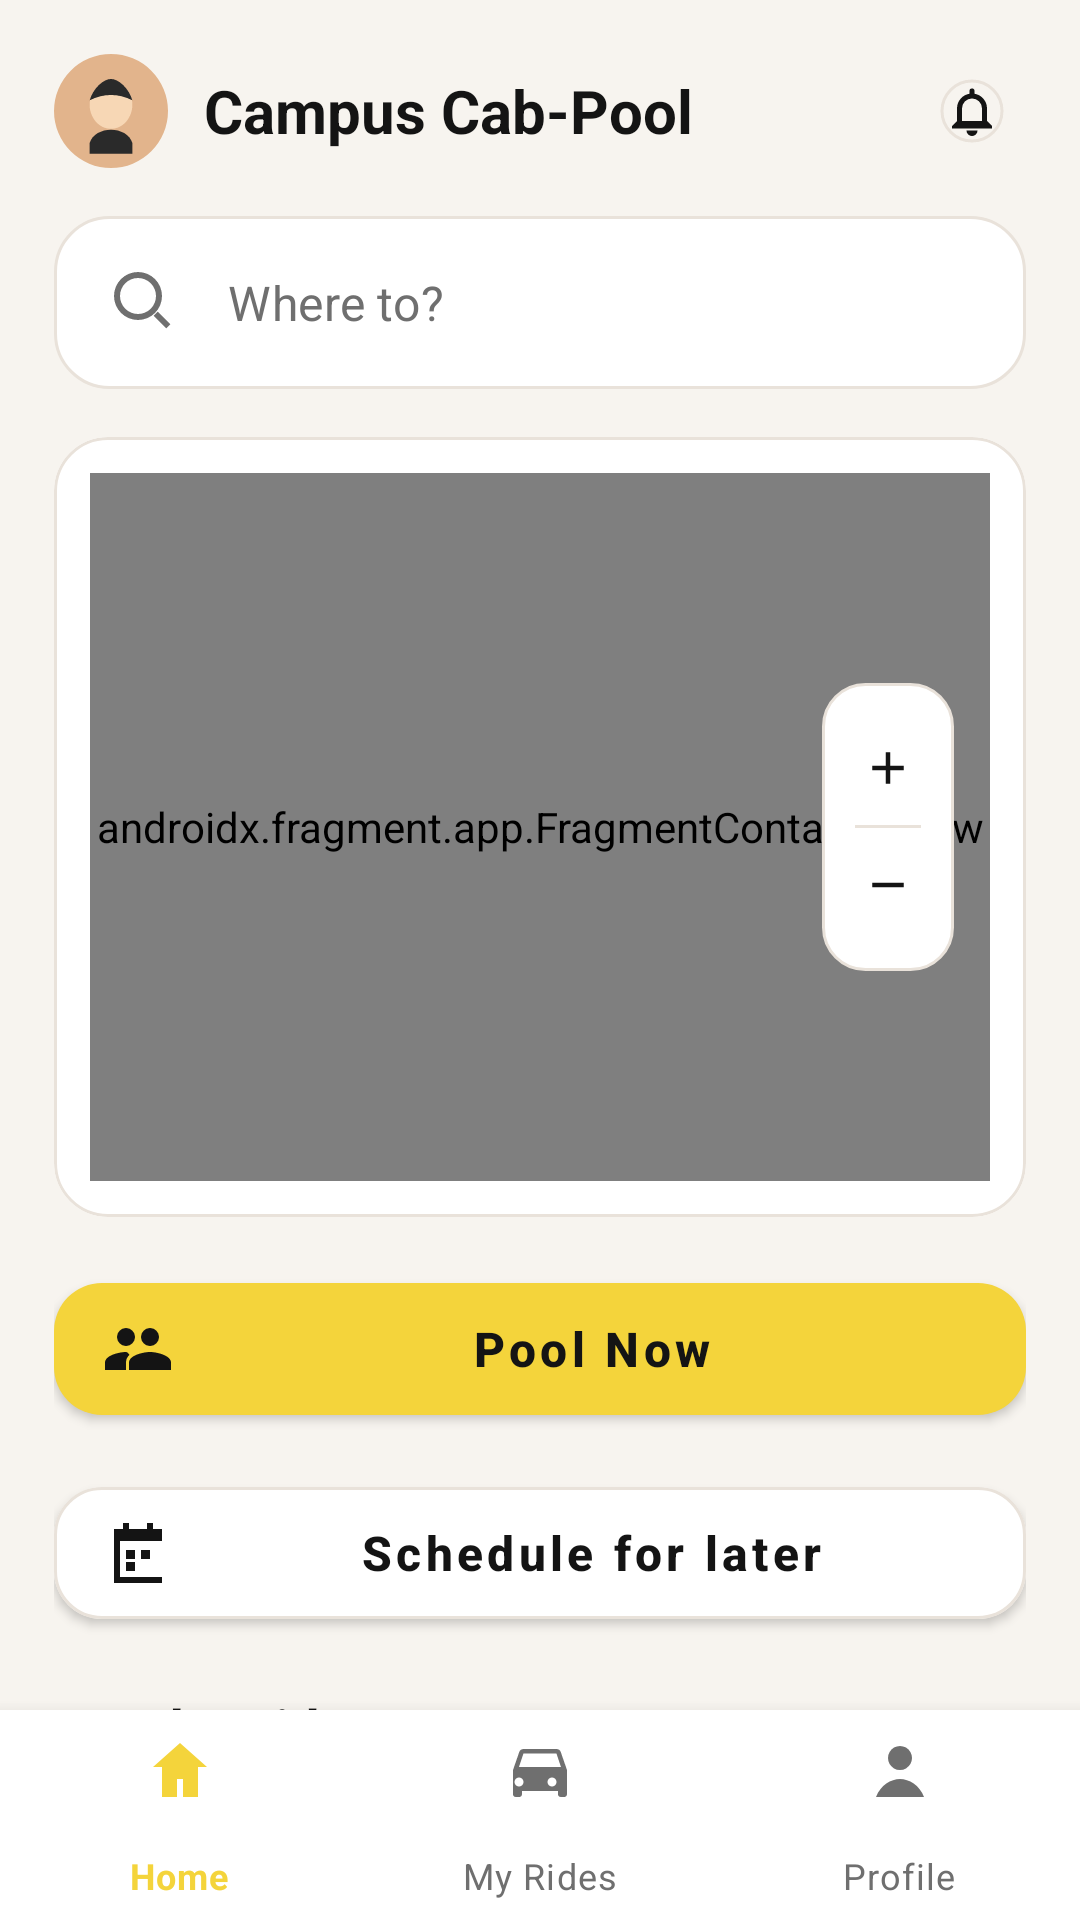

Named icons in this screenshot (1080 x 1920) and their bounding boxes, (x1, y1, x2, y2):
bell: (952, 88, 992, 136)
minus: (872, 882, 904, 888)
plus: (872, 752, 904, 784)
